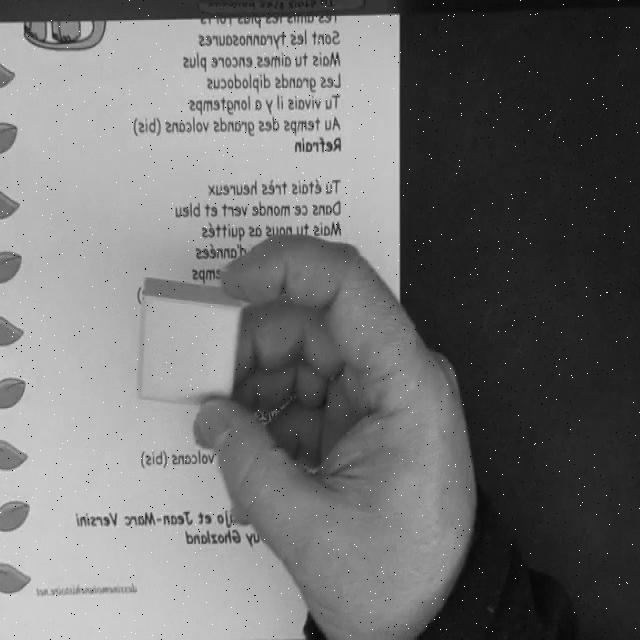square: (138, 276, 243, 409)
